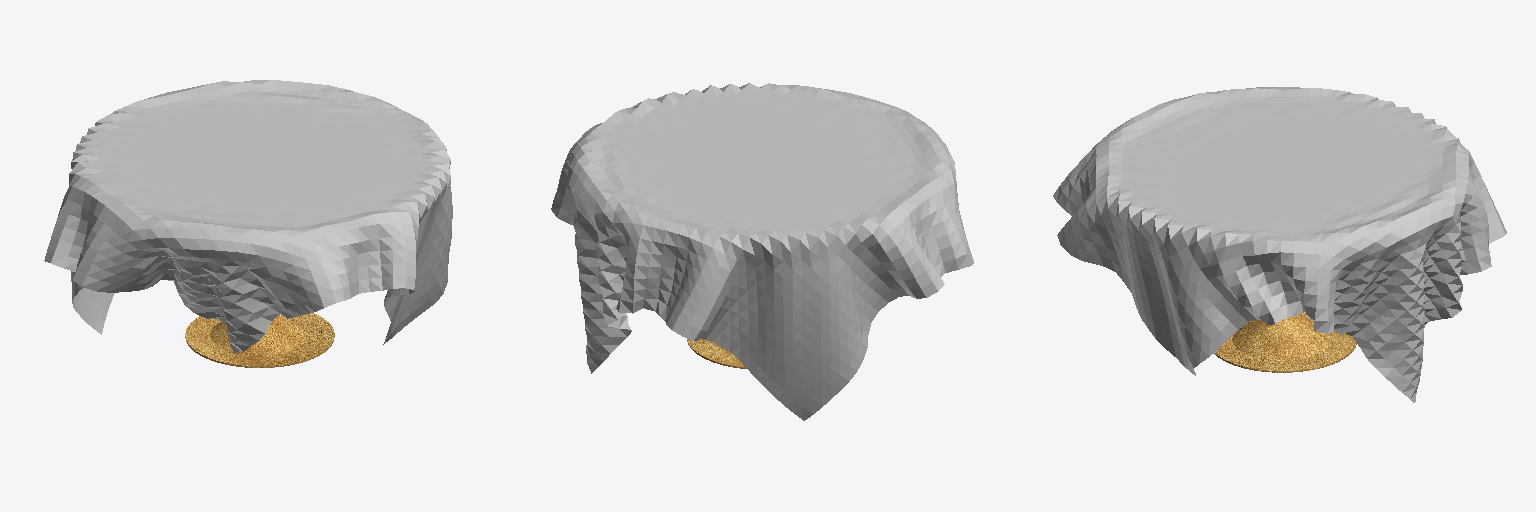
3 renders of one model, left to right at view 1: azimuth 30°, elevation 25°; view 2: azimuth 150°, elevation 25°; view 3: azimuth 270°, elevation 25°, orthographic.
Size of the model in its own units: 477 by 233 by 486.
Materials: 2 (1 with a texture image).